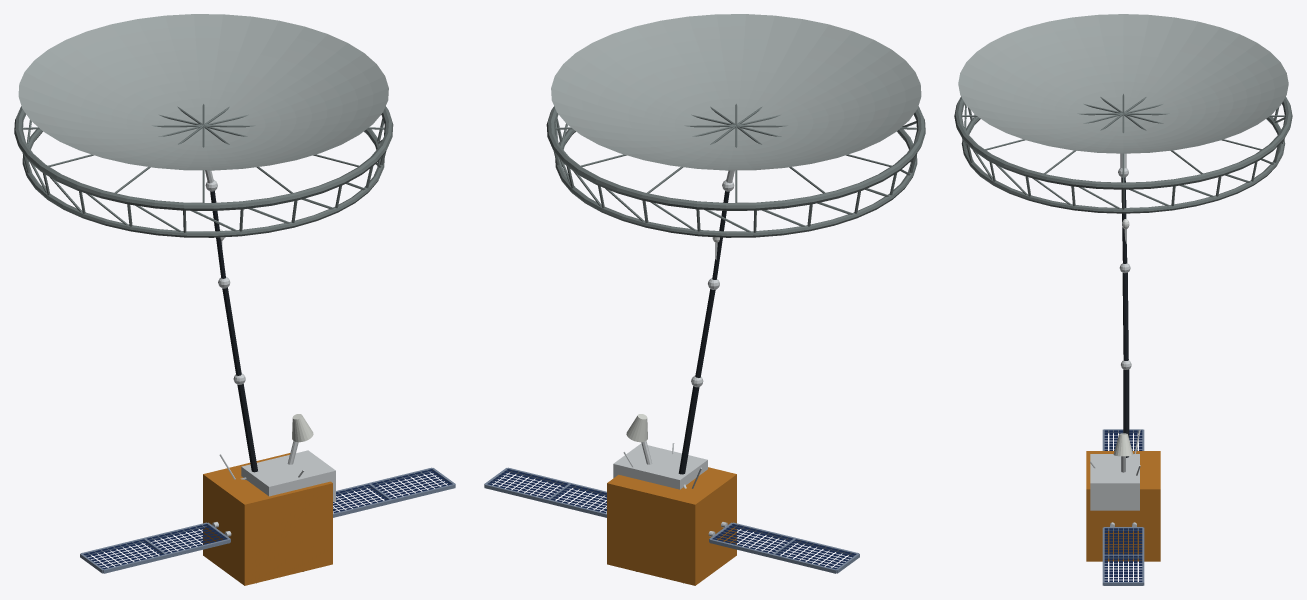
File: NISAR.glb
3 views of the same model, side by side, from view 1: azimuth 30°, elevation 25°; view 2: azimuth 150°, elevation 25°; view 3: azimuth 270°, elevation 25° (orthographic). The views are drawn at different scales.
Visible parts, largest first — view 1: NISAR_12M_RADAR_REFLECTOR_SURFACE, NISAR_MAIN_SPACECRAFT_BUS, NISAR_CONSOLIDATED_SOLAR_CELLS, NISAR_REFLECTOR_OUTER_RIM, NISAR_REFLECTOR_LOWER_RING, NISAR_RADAR_INSTRUMENT_STRUCTURE, NISAR_CONSOLIDATED_SOLAR_FRAMES, NISAR_REFLECTOR_TRIANGULAR_TRUSS, NISAR_REFLECTOR_RADIAL_SUPPORTS, NISAR_DEPLOYED_RADAR_ANTENNA_BOOM, NISAR_L_S_BAND_RF_FEED_APERTURE; view 2: NISAR_12M_RADAR_REFLECTOR_SURFACE, NISAR_MAIN_SPACECRAFT_BUS, NISAR_CONSOLIDATED_SOLAR_CELLS, NISAR_REFLECTOR_OUTER_RIM, NISAR_REFLECTOR_LOWER_RING, NISAR_CONSOLIDATED_SOLAR_FRAMES, NISAR_RADAR_INSTRUMENT_STRUCTURE, NISAR_REFLECTOR_TRIANGULAR_TRUSS, NISAR_REFLECTOR_RADIAL_SUPPORTS, NISAR_DEPLOYED_RADAR_ANTENNA_BOOM, NISAR_L_S_BAND_RF_FEED_APERTURE; view 3: NISAR_12M_RADAR_REFLECTOR_SURFACE, NISAR_MAIN_SPACECRAFT_BUS, NISAR_REFLECTOR_OUTER_RIM, NISAR_RADAR_INSTRUMENT_STRUCTURE, NISAR_REFLECTOR_LOWER_RING, NISAR_CONSOLIDATED_SOLAR_CELLS, NISAR_REFLECTOR_TRIANGULAR_TRUSS, NISAR_REFLECTOR_RADIAL_SUPPORTS, NISAR_DEPLOYED_RADAR_ANTENNA_BOOM, NISAR_CONSOLIDATED_SOLAR_FRAMES.
Part boxes in pixels (x1,y1,x2,y2): NISAR_12M_RADAR_REFLECTOR_SURFACE: (18, 14, 388, 170); NISAR_MAIN_SPACECRAFT_BUS: (203, 453, 332, 585); NISAR_CONSOLIDATED_SOLAR_CELLS: (83, 469, 452, 569); NISAR_REFLECTOR_OUTER_RIM: (14, 106, 393, 210); NISAR_REFLECTOR_LOWER_RING: (22, 129, 384, 237); NISAR_RADAR_INSTRUMENT_STRUCTURE: (241, 450, 335, 501); NISAR_CONSOLIDATED_SOLAR_FRAMES: (80, 467, 455, 573); NISAR_REFLECTOR_TRIANGULAR_TRUSS: (22, 114, 386, 232); NISAR_REFLECTOR_RADIAL_SUPPORTS: (22, 104, 384, 202); NISAR_DEPLOYED_RADAR_ANTENNA_BOOM: (210, 191, 257, 472); NISAR_L_S_BAND_RF_FEED_APERTURE: (287, 414, 313, 464); NISAR_12M_RADAR_REFLECTOR_SURFACE: (551, 14, 921, 170); NISAR_MAIN_SPACECRAFT_BUS: (607, 467, 736, 585); NISAR_CONSOLIDATED_SOLAR_CELLS: (487, 469, 856, 569); NISAR_REFLECTOR_OUTER_RIM: (546, 106, 925, 210); NISAR_REFLECTOR_LOWER_RING: (555, 129, 917, 237); NISAR_CONSOLIDATED_SOLAR_FRAMES: (484, 467, 859, 573); NISAR_RADAR_INSTRUMENT_STRUCTURE: (613, 443, 707, 489); NISAR_REFLECTOR_TRIANGULAR_TRUSS: (553, 118, 917, 232); NISAR_REFLECTOR_RADIAL_SUPPORTS: (555, 104, 917, 202); NISAR_DEPLOYED_RADAR_ANTENNA_BOOM: (678, 191, 729, 474); NISAR_L_S_BAND_RF_FEED_APERTURE: (626, 414, 652, 464); NISAR_12M_RADAR_REFLECTOR_SURFACE: (958, 14, 1288, 153); NISAR_MAIN_SPACECRAFT_BUS: (1086, 451, 1160, 561); NISAR_REFLECTOR_OUTER_RIM: (954, 96, 1292, 189); NISAR_RADAR_INSTRUMENT_STRUCTURE: (1090, 454, 1139, 510); NISAR_REFLECTOR_LOWER_RING: (961, 117, 1285, 213); NISAR_CONSOLIDATED_SOLAR_CELLS: (1104, 430, 1142, 581); NISAR_REFLECTOR_TRIANGULAR_TRUSS: (962, 104, 1284, 209); NISAR_REFLECTOR_RADIAL_SUPPORTS: (961, 94, 1285, 182); NISAR_DEPLOYED_RADAR_ANTENNA_BOOM: (1121, 177, 1129, 457); NISAR_CONSOLIDATED_SOLAR_FRAMES: (1102, 429, 1144, 585).
Size of the model in its own units: 7.57 by 8.82 by 6.14.
